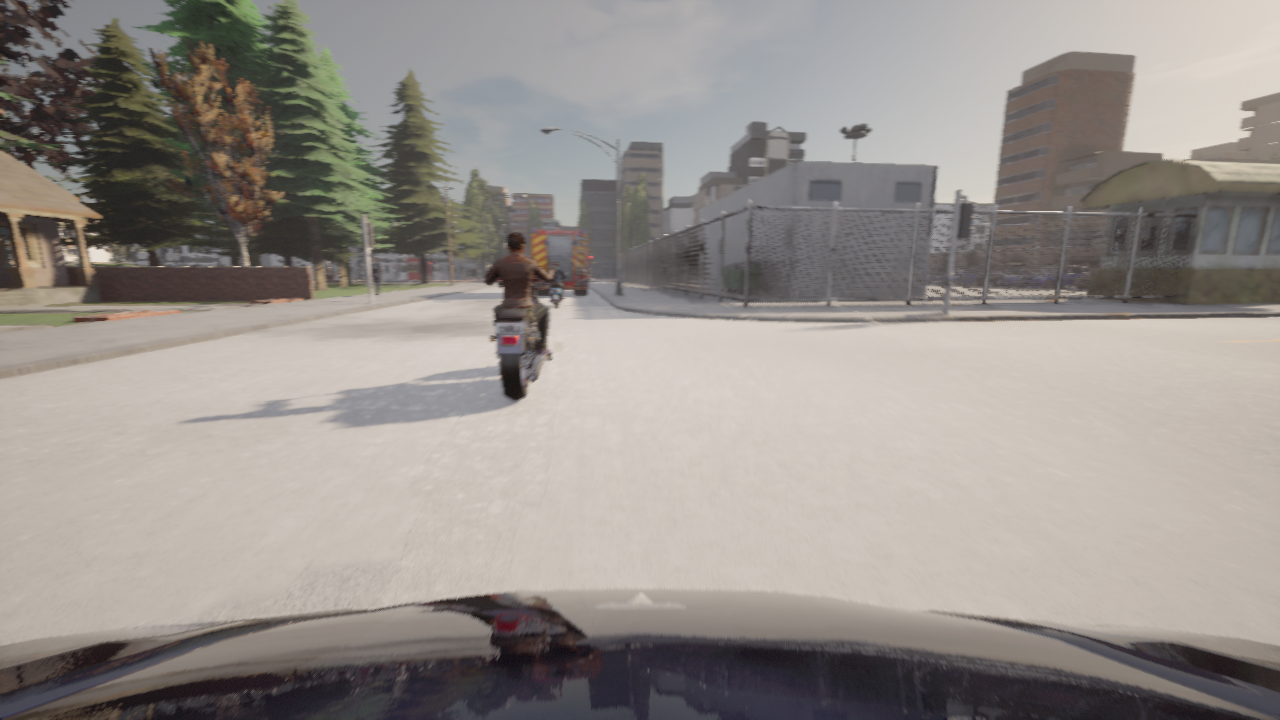cyclist: (0, 588, 1279, 719), (488, 267, 555, 401), (531, 220, 588, 295), (1016, 265, 1090, 288), (975, 263, 1029, 287), (942, 269, 984, 285), (550, 272, 567, 307), (999, 269, 1031, 287), (1073, 274, 1089, 289), (926, 269, 942, 284), (928, 271, 945, 283)
pedestrian: (370, 258, 384, 296)
